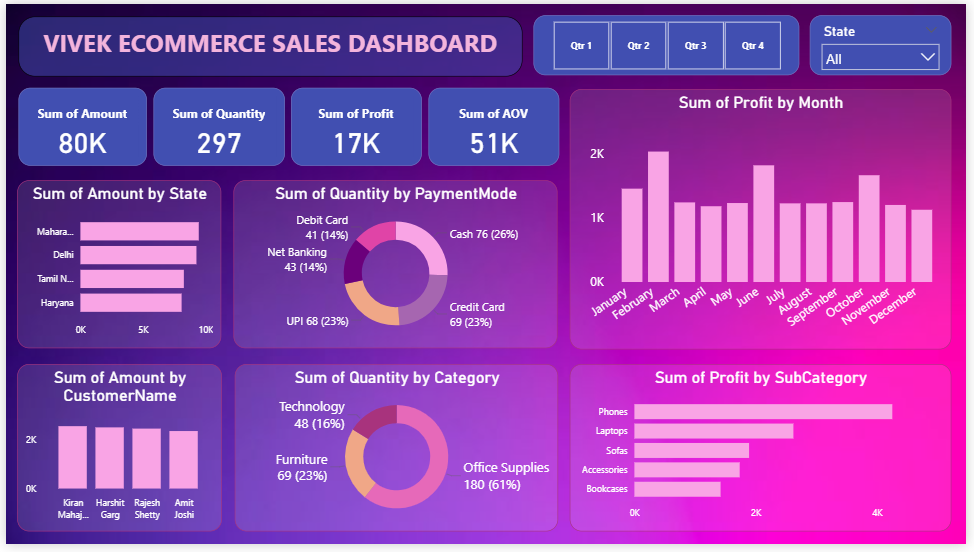

The dashboard page shown, as its layout file describes it:
{"tool":"powerbi","page":{"name":"Page 1","canvas":[1280,720],"ordinal":0},"visuals":[{"type":"textbox","box":[16,16,672,80],"z":0},{"type":"columnChart","fields":{"Category":["Order Table final.OrderDate.Variation.Date Hierarchy.Month"],"Y":["Sum(order details 2.Profit)"]},"box":[751.4,112.9,508.6,347.1],"z":1000},{"type":"barChart","fields":{"Category":["order details 2.SubCategory"],"Y":["Sum(order details 2.Profit)"]},"box":[751.4,480,508.6,222.9],"z":2000},{"type":"donutChart","fields":{"Category":["order details 2.Category"],"Y":["Sum(order details 2.Quantity)"]},"box":[304.3,480,431.4,222.9],"z":3000},{"type":"donutChart","fields":{"Category":["order details 2.PaymentMode"],"Y":["Sum(order details 2.Quantity)"]},"box":[303.4,235.3,432,224],"z":4000},{"type":"cardVisual","title":"S","fields":{"Data":["Sum(order details 2.Amount)"]},"box":[16,112,171,104],"z":5000},{"type":"cardVisual","fields":{"Data":["Sum(order details 2.AOV)"]},"box":[563.1,112.3,174,104],"z":6000},{"type":"cardVisual","fields":{"Data":["Sum(order details 2.Quantity)"]},"box":[196.3,112,175,103.7],"z":7000},{"type":"cardVisual","fields":{"Data":["Sum(order details 2.Profit)"]},"box":[380.2,111.4,174.3,104.3],"z":8000},{"type":"barChart","fields":{"Category":["Order Table final.State"],"Y":["Sum(order details 2.Amount)"]},"box":[15.4,235.3,272,224],"z":9000},{"type":"columnChart","fields":{"Category":["Order Table final.CustomerName"],"Y":["Sum(order details 2.Amount)"]},"box":[15.7,480,272.9,222.9],"z":10000},{"type":"slicer","fields":{"Values":["Order Table final.OrderDate.Variation.Date Hierarchy.Quarter"]},"box":[702.9,15.7,354.3,80],"z":11000},{"type":"slicer","fields":{"Values":["Order Table final.State"]},"box":[1071.4,15.7,188.6,80],"z":12000}]}

Visuals, with their boxes in screenshot pixels (x1, y1, x2, y2), scaled from the page's 1280x720 canvas onto the 974x552 screenshot:
textbox: region(12, 12, 524, 74)
columnChart - Order Table final.OrderDate.Variation.Date Hierarchy.Month x Sum(order details 2.Profit): region(572, 87, 959, 353)
barChart - order details 2.SubCategory x Sum(order details 2.Profit): region(572, 368, 959, 539)
donutChart - order details 2.Category x Sum(order details 2.Quantity): region(232, 368, 560, 539)
donutChart - order details 2.PaymentMode x Sum(order details 2.Quantity): region(231, 180, 560, 352)
"S" cardVisual: region(12, 86, 142, 166)
cardVisual - Sum(order details 2.AOV): region(428, 86, 561, 166)
cardVisual - Sum(order details 2.Quantity): region(149, 86, 283, 165)
cardVisual - Sum(order details 2.Profit): region(289, 85, 422, 165)
barChart - Order Table final.State x Sum(order details 2.Amount): region(12, 180, 219, 352)
columnChart - Order Table final.CustomerName x Sum(order details 2.Amount): region(12, 368, 220, 539)
slicer - Order Table final.OrderDate.Variation.Date Hierarchy.Quarter: region(535, 12, 804, 73)
slicer - Order Table final.State: region(815, 12, 959, 73)
